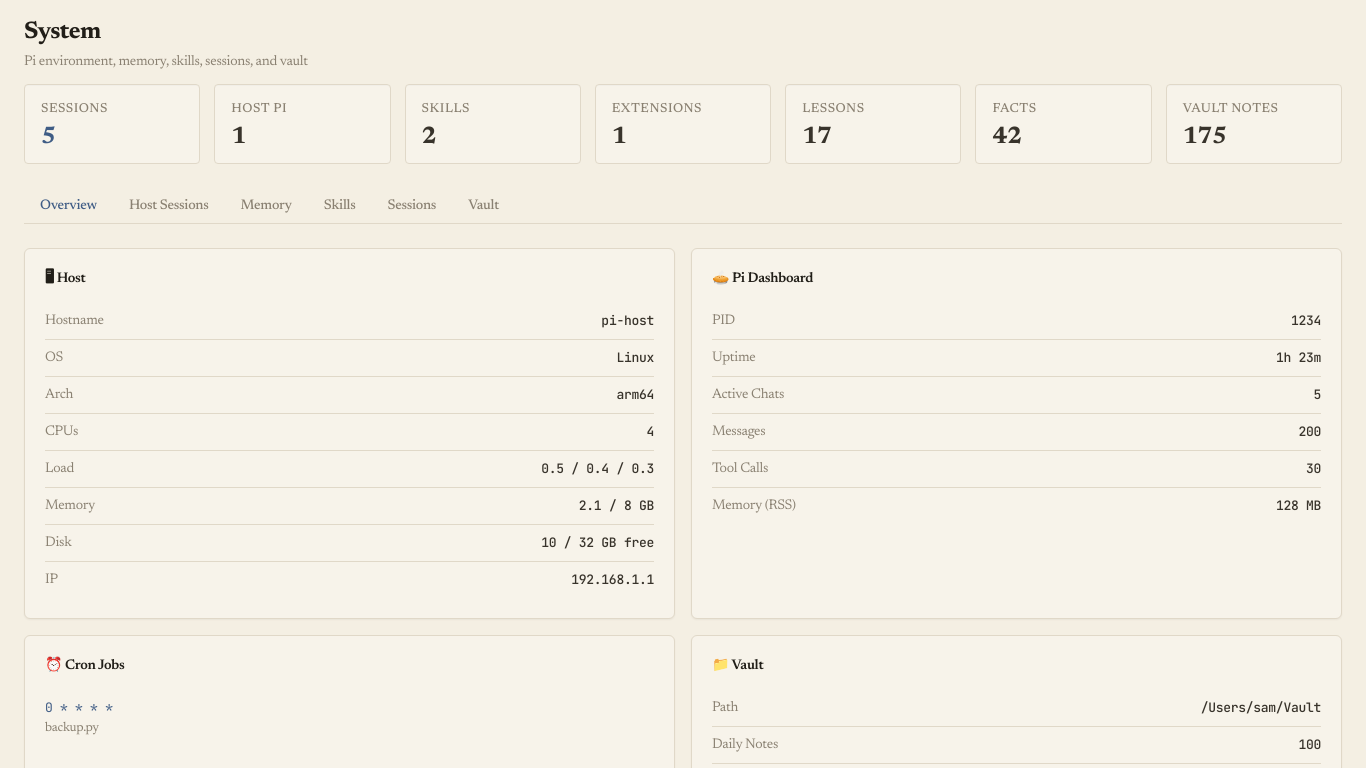
Scenario: SystemPage — tab switching › clicking Sessions tab shows recent sessions content
Step 1. Click the button "Sessions" → (412, 206), box x1=372 y1=188 x2=452 y2=224
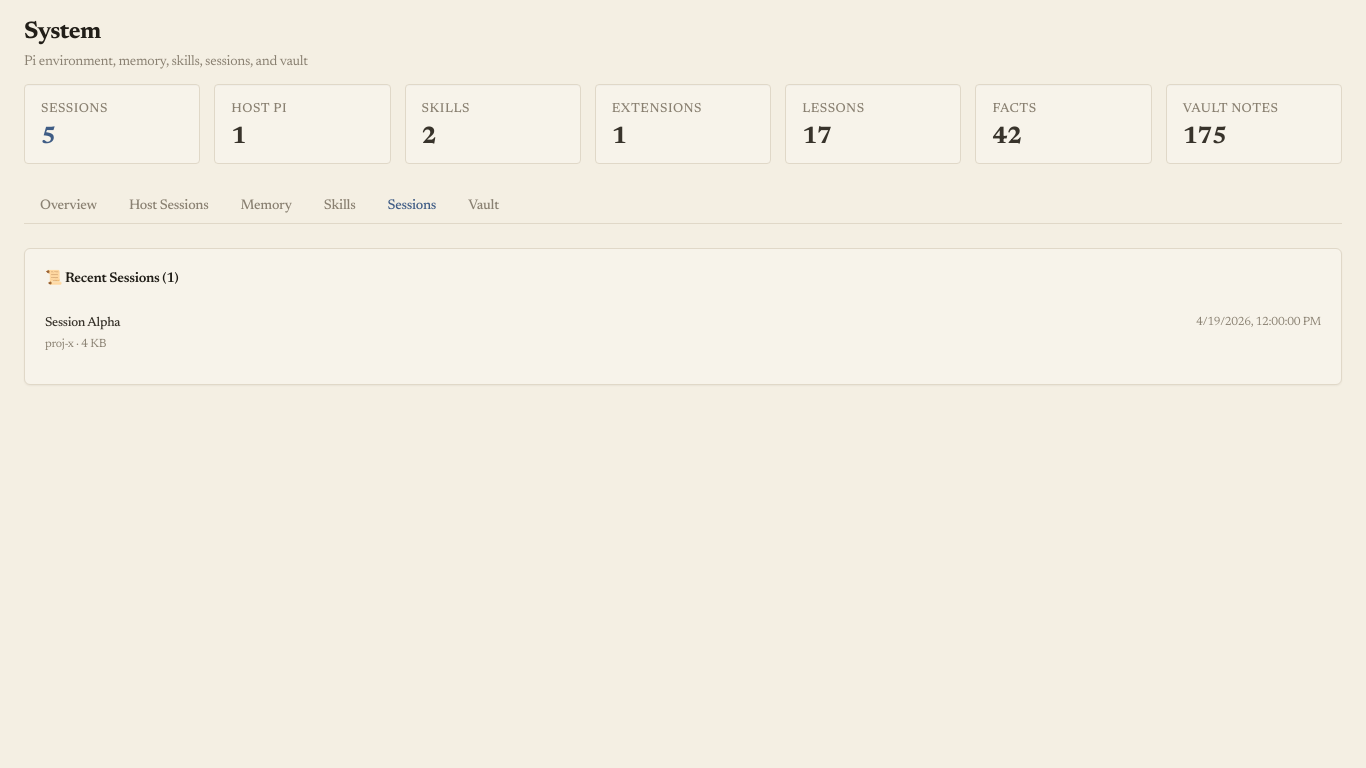
Now the heading "📜 Recent Sessions (1)" is shown, box x1=45 y1=272 x2=178 y2=286
